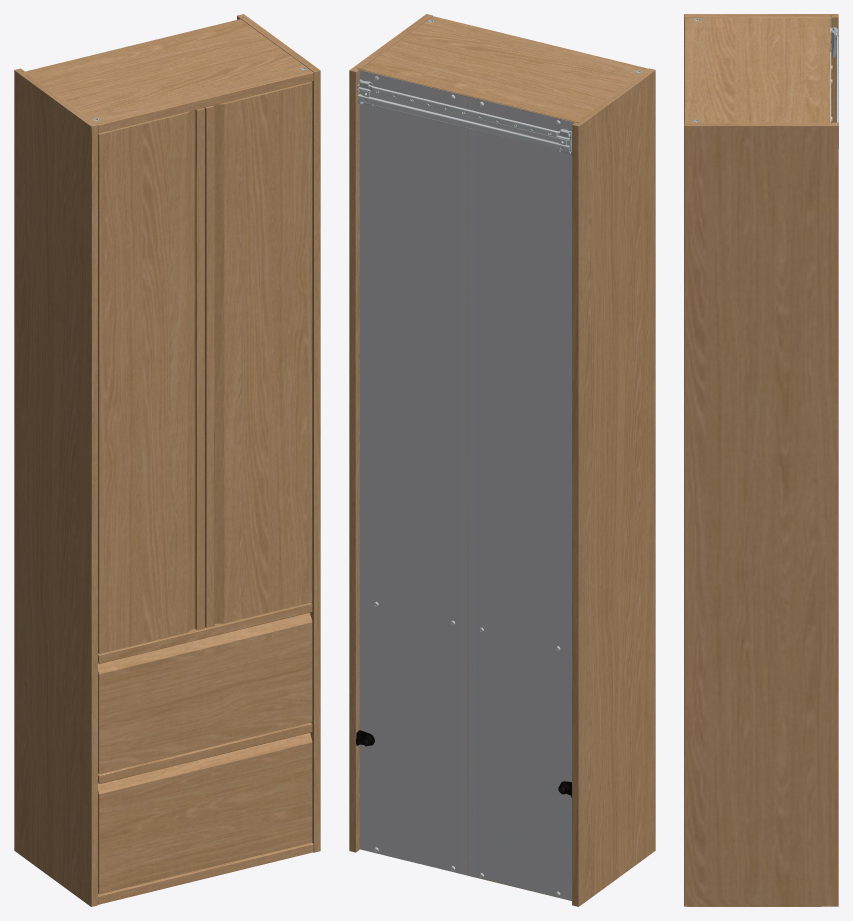
File: angsjon_szafka_wysoka_z_drzwiami_szufladami_90553162.glb
The picture shows the model from 3 angles, left to right: view 1: azimuth 30°, elevation 25°; view 2: azimuth 150°, elevation 25°; view 3: azimuth 270°, elevation 25°; orthographic projection.
Parts seen in each view (by area): view 1: angsjon_szafka_wysoka_z_drzwiami_szufladami_90553162; view 2: angsjon_szafka_wysoka_z_drzwiami_szufladami_90553162; view 3: angsjon_szafka_wysoka_z_drzwiami_szufladami_90553162.
Boxes of the visible parts, x1=… form: angsjon_szafka_wysoka_z_drzwiami_szufladami_90553162: x1=14, y1=14, x2=320, y2=906; angsjon_szafka_wysoka_z_drzwiami_szufladami_90553162: x1=349, y1=14, x2=655, y2=906; angsjon_szafka_wysoka_z_drzwiami_szufladami_90553162: x1=684, y1=14, x2=838, y2=906.
Bounding box in the file's own units: 0.6 × 1.95 × 0.3504.
Materials: 2 (2 with a texture image).
